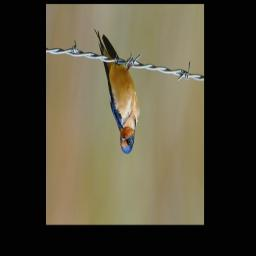Swallow: (94, 28, 141, 155)
